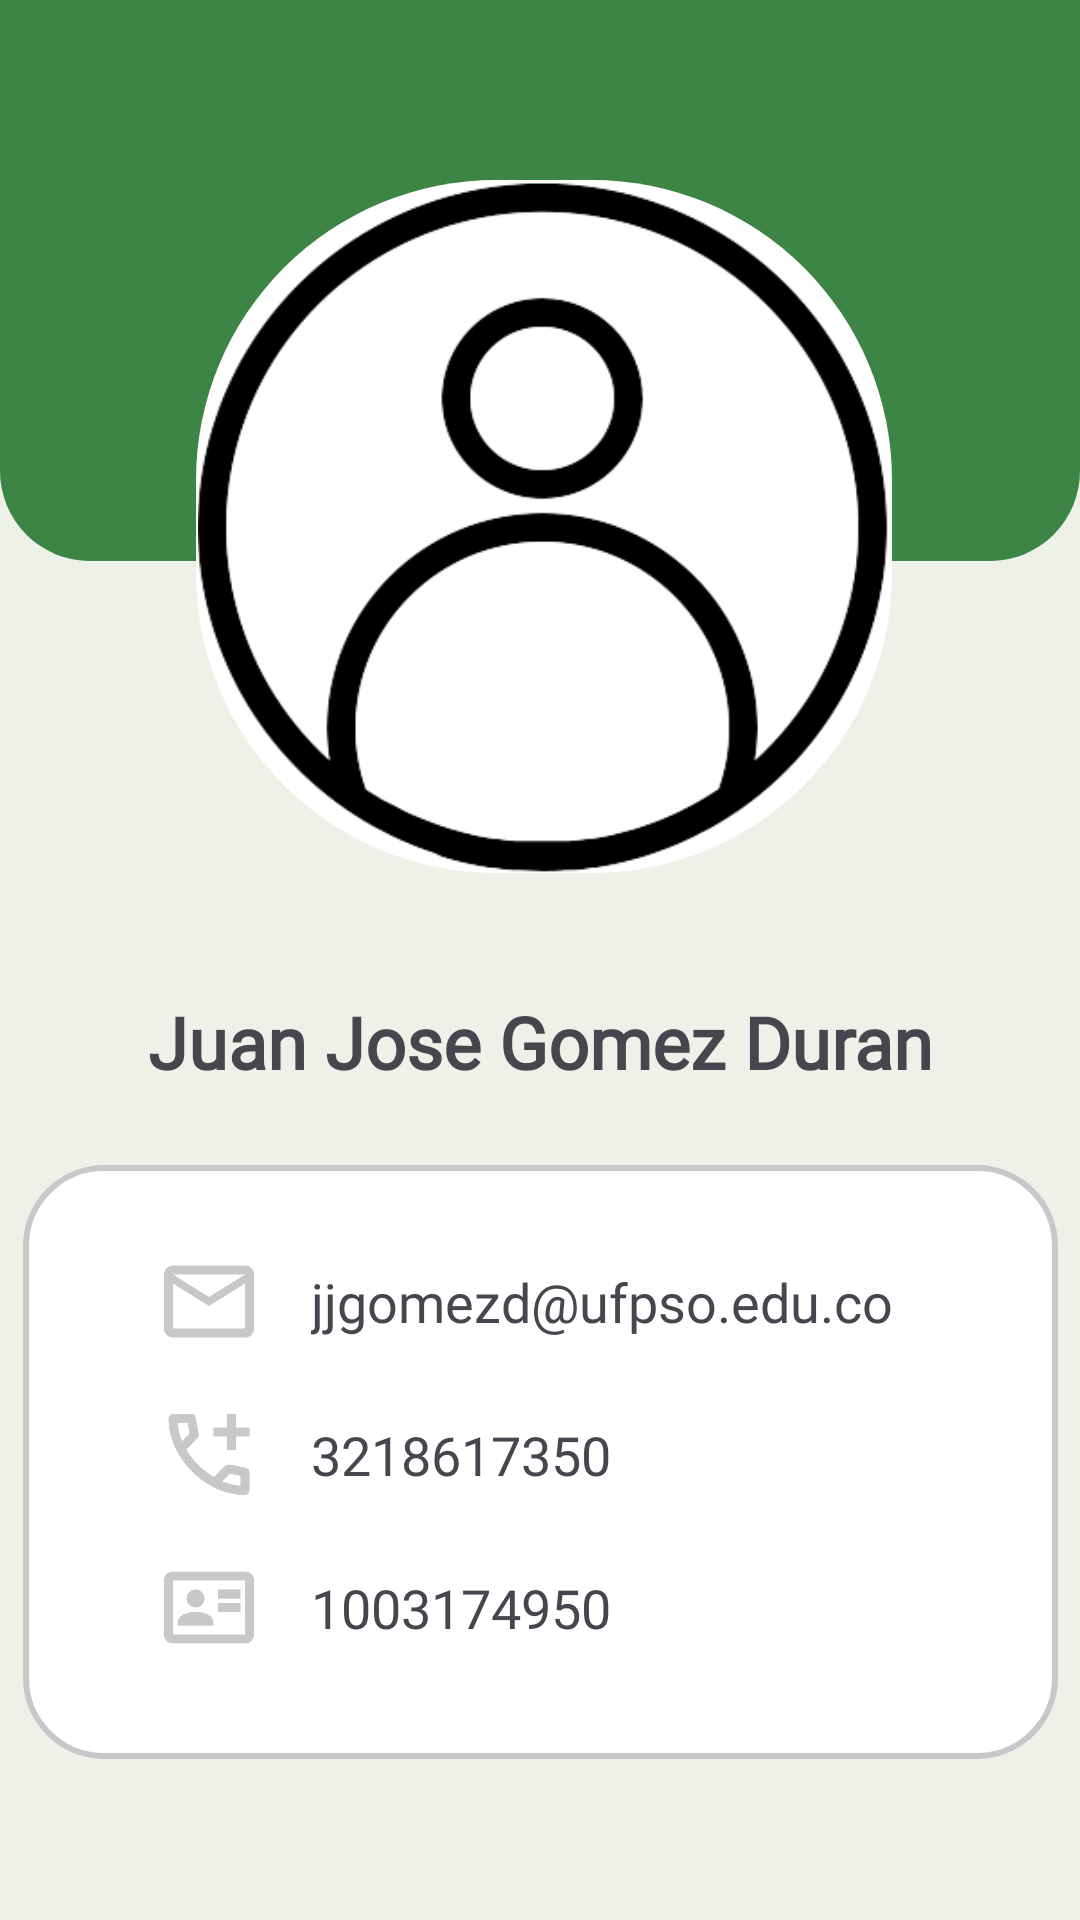

Screen size 1080w x 1920h. Icon name, then its center in pixels as (x,y):
cedula: (209,1607)
email: (209,1301)
numero celular: (209,1454)
